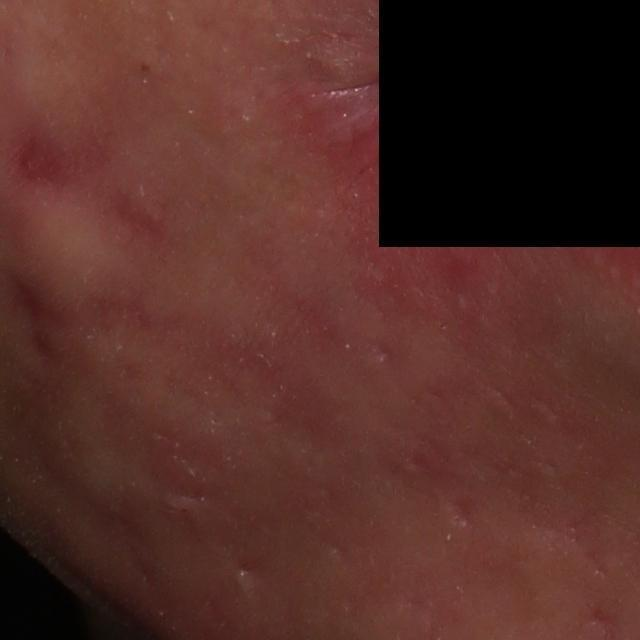atrophic_scar: (0, 259, 162, 372), (4, 110, 122, 193), (438, 493, 486, 534)
hypertrophic_scar: (22, 391, 180, 528), (0, 182, 125, 323), (105, 181, 177, 268)
